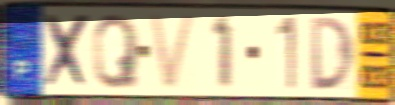1: (209, 15, 237, 92), (275, 14, 297, 93)
D: (309, 15, 357, 93)
Q: (91, 12, 141, 92)
V: (146, 12, 199, 93)
X: (43, 12, 92, 92)
